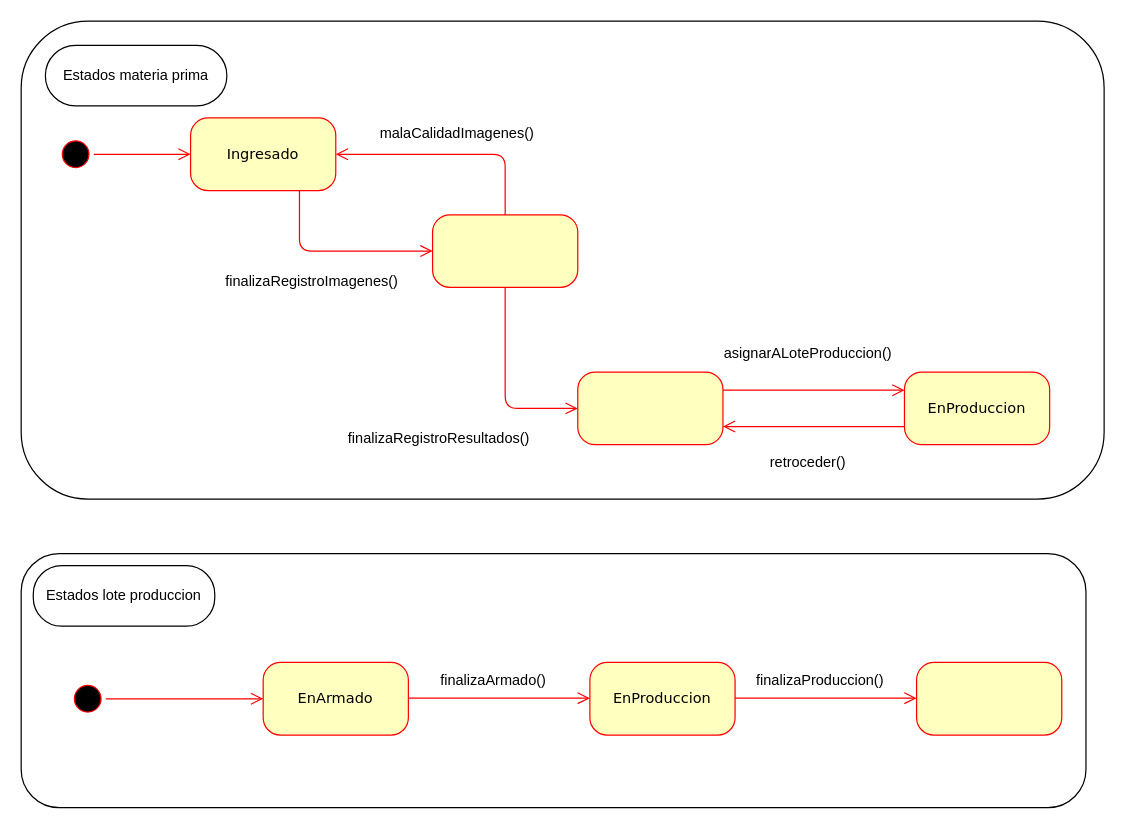
The diagram is 1125 pixels wide and 829 high, and some of its shapes have lost their labels. Each missing label, with the centre of its shape:
"Analizado" goes at [650,408].
"EnAnalisis" goes at [504,250].
"Finalizado" goes at [988,698].
